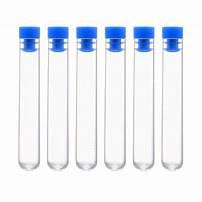Test tube: (43, 19, 67, 173), (13, 23, 37, 175), (161, 21, 185, 169), (133, 22, 156, 170), (76, 17, 94, 174), (104, 16, 122, 169)
